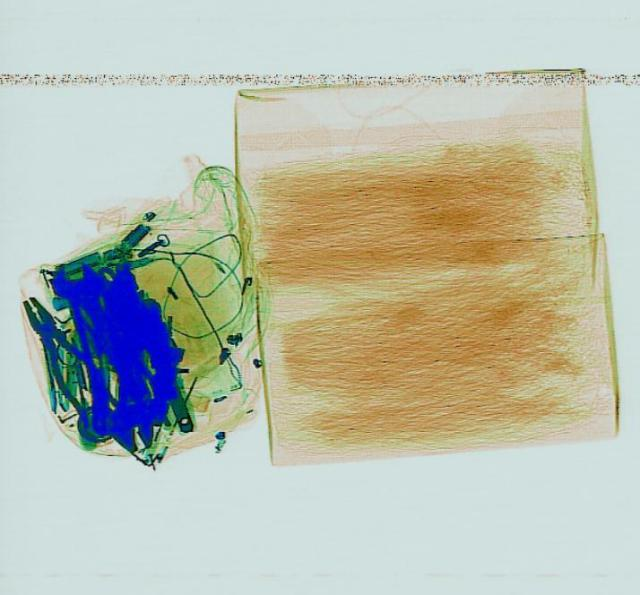Pliers: (3, 287, 126, 430)
Wrench: (42, 256, 170, 417)
